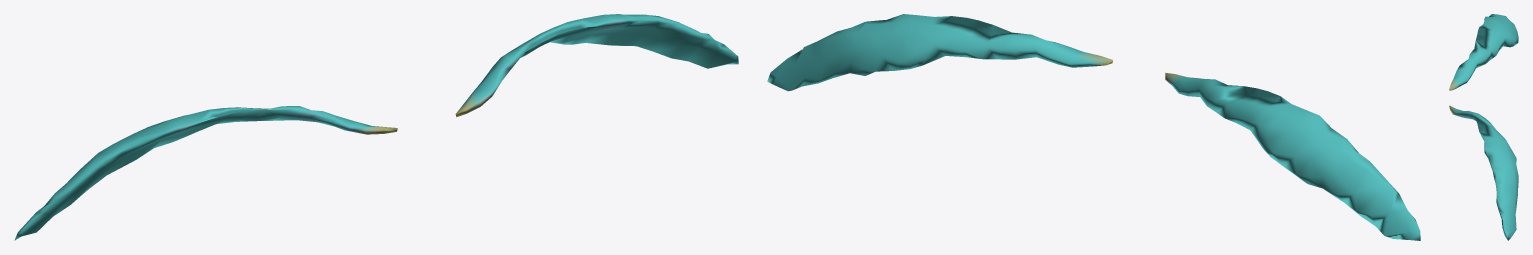
Rendered from Aile-COLOR-Petite-3.fbx.
3 views of the same model, side by side, from view 1: azimuth 30°, elevation 25°; view 2: azimuth 150°, elevation 25°; view 3: azimuth 270°, elevation 25° (orthographic). The views are drawn at different scales.
Visible parts, largest first — view 1: PM3D_Sphere3D_3; view 2: PM3D_Sphere3D_3; view 3: PM3D_Sphere3D_3.
Part boxes in pixels (bbox=[...]): PM3D_Sphere3D_3: bbox=[14, 14, 738, 240]; PM3D_Sphere3D_3: bbox=[767, 14, 1420, 240]; PM3D_Sphere3D_3: bbox=[1449, 14, 1518, 240].
Bounding box in the file's own units: 5.58 × 0.741 × 0.79.
